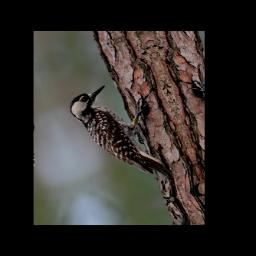Woodpecker: (65, 73, 179, 201)
